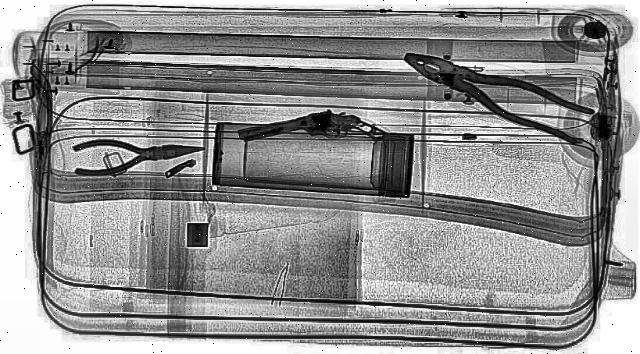Gun: (232, 103, 390, 163)
Pliers: (377, 43, 617, 147), (65, 134, 208, 180)
